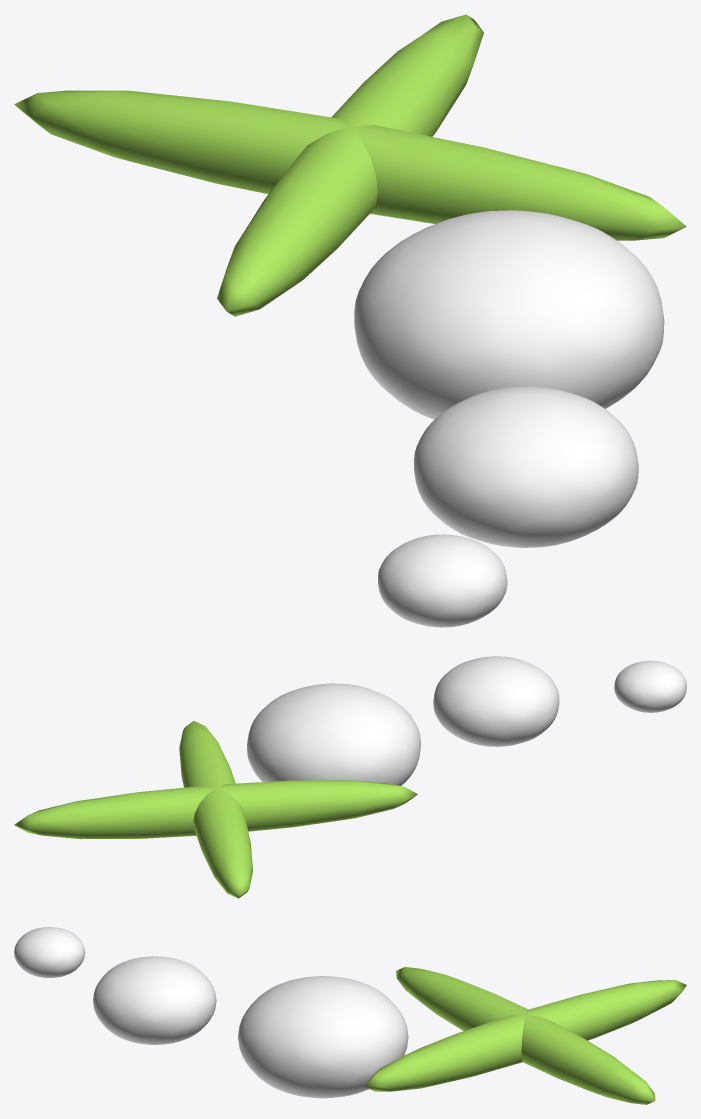
File: Map.2024.08.21.fbx
3 views of the same model, one above another, from view 1: azimuth 30°, elevation 25°; view 2: azimuth 150°, elevation 25°; view 3: azimuth 270°, elevation 25° (orthographic). The views are drawn at different scales.
Parts seen in each view (by area): view 1: Cube; view 2: Cube; view 3: Cube.
Part boxes in pixels (<box>): Cube: <box>14,14,686,627</box>; Cube: <box>14,656,686,898</box>; Cube: <box>14,927,686,1104</box>.
Size of the model in its own units: 86.56 by 23.51 by 144.
